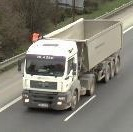truck: (22, 19, 122, 111)
